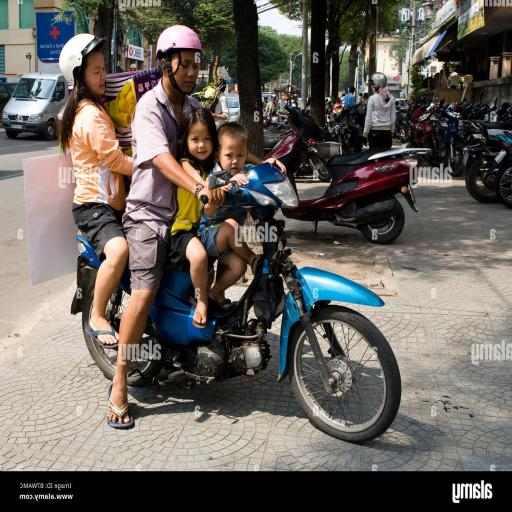overloading: (69, 152, 404, 444)
